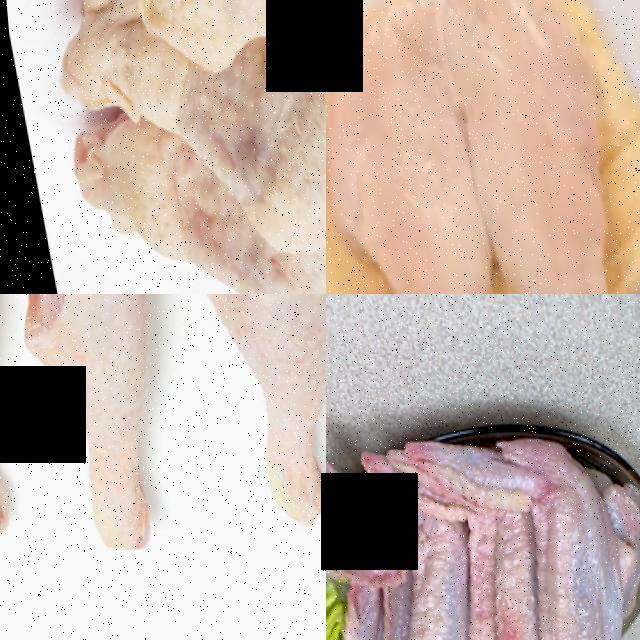chicken breast: (435, 0, 640, 294), (326, 0, 496, 294)
chicken thigh: (0, 294, 196, 564), (179, 294, 326, 535)
chicken wing: (414, 409, 640, 640), (96, 0, 326, 172)
